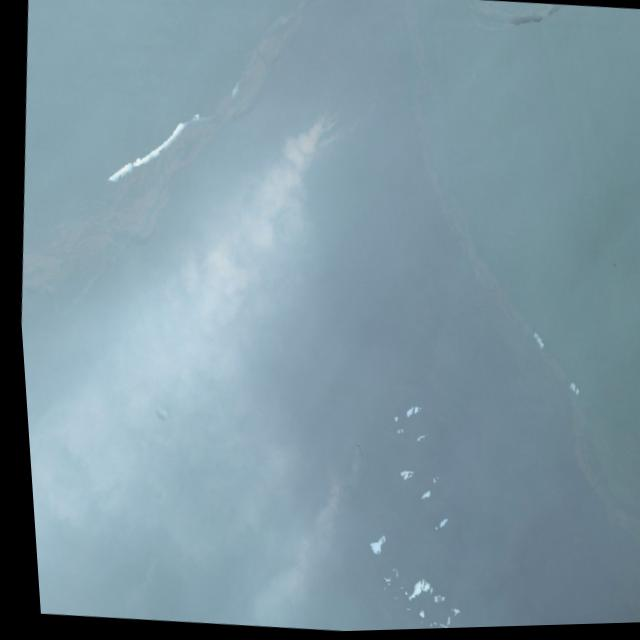fire: (195, 72, 355, 279), (242, 420, 370, 562), (134, 531, 160, 568)
